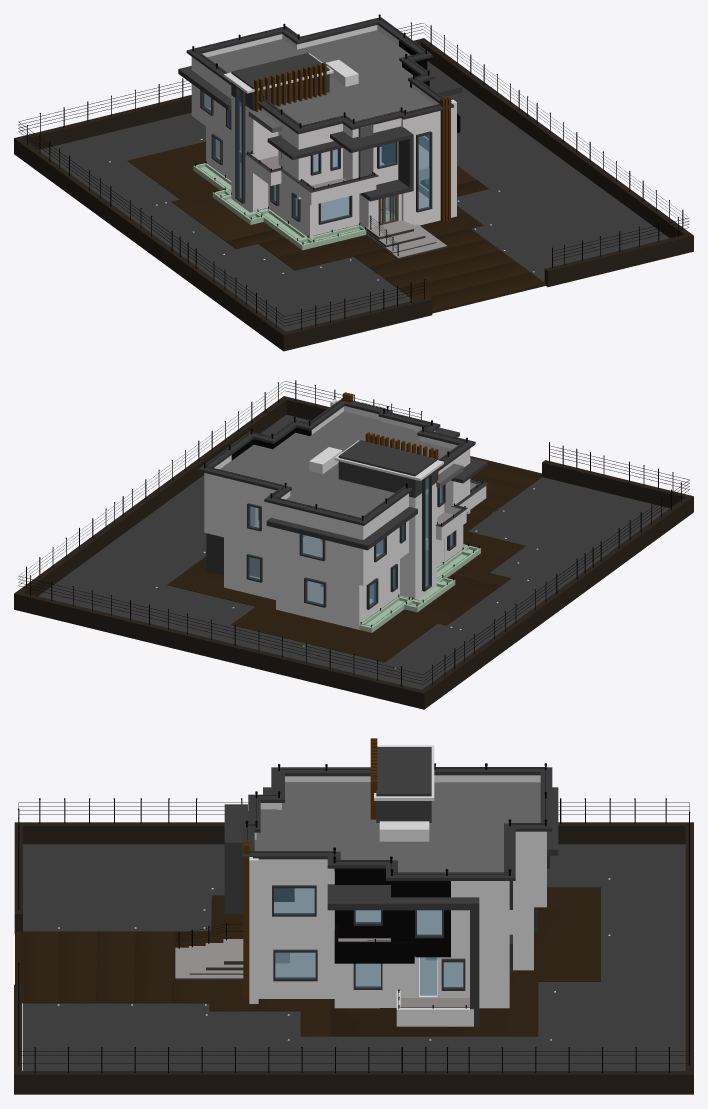
Rendered from Home-transformed.glb.
3 views of the same model, one above another, from view 1: azimuth 30°, elevation 25°; view 2: azimuth 150°, elevation 25°; view 3: azimuth 270°, elevation 25° (orthographic). The views are drawn at different scales.
Parts seen in each view (by area): view 1: Rectangle007, Line055, Line061, Line015, Line009, Line025, Line017, Box023, Box007, Line012, Line013, Line003 (+22 smaller); view 2: Rectangle007, Line055, Line061, Line015, Line012, Line025, Line001, Line011, Box007, Line002, Box023, Line013 (+12 smaller); view 3: Rectangle007, Line061, Line055, Line015, Line003, Line025, Line011, Line009, Line010, Line023, Box007, Line018 (+24 smaller).
Boxes of the visible parts, x1,y1,x2,y2 form: Rectangle007: (38,61,669,331); Line055: (14,38,693,351); Line061: (127,141,547,313); Line015: (207,30,434,132); Line009: (261,84,456,199); Line025: (186,17,453,134); Line017: (330,126,413,201); Box023: (193,163,366,250); Box007: (231,53,329,110); Line012: (191,34,282,144); Line013: (231,95,296,178); Line003: (397,161,456,225); Rectangle007: (38,414,669,689); Line055: (14,396,693,709); Line061: (167,456,541,662); Line015: (220,411,463,517); Line012: (274,493,408,585); Line025: (198,398,475,525); Line001: (276,559,399,629); Line011: (204,455,305,563); Box007: (338,440,436,497); Line002: (224,537,275,599); Box023: (359,544,480,632); Line013: (409,453,468,553); Rectangle007: (23,844,685,1070); Line061: (15,887,600,1036); Line055: (14,822,693,1094); Line015: (254,782,540,872); Line003: (249,928,473,1009); Line025: (242,767,552,880); Line011: (451,831,546,957); Line009: (249,776,370,934); Line010: (334,868,450,957); Line023: (327,884,479,1026); Box007: (376,747,431,822); Line018: (275,953,462,995).
Size of the model in its own units: 26.93 by 8.7 by 30.69.
